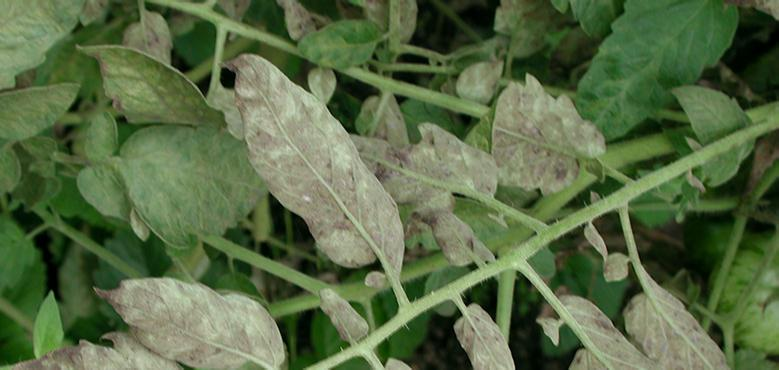Tomato mold leaf: (579, 0, 741, 131), (92, 132, 266, 251), (0, 0, 87, 94), (0, 78, 83, 166)
